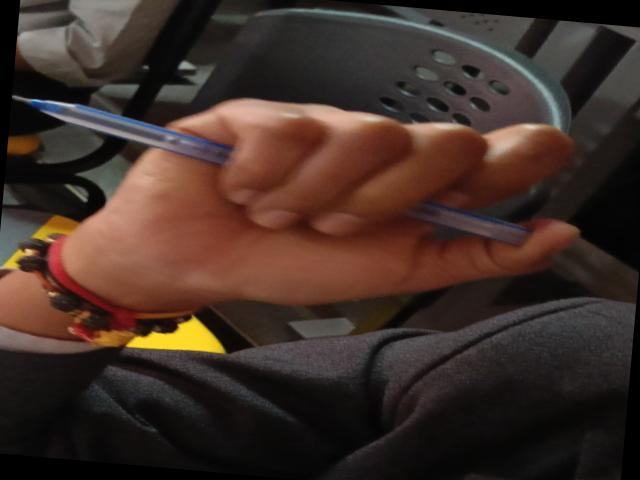PEN: (8, 78, 556, 259)
